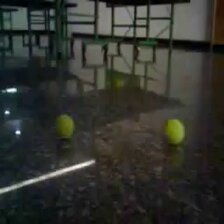tennis: (162, 119, 185, 147), (54, 114, 76, 140)
